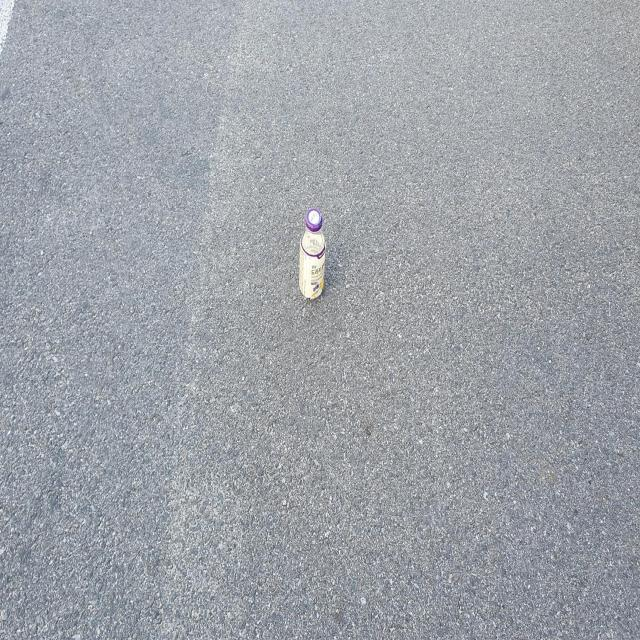glass: (299, 207, 326, 298)
